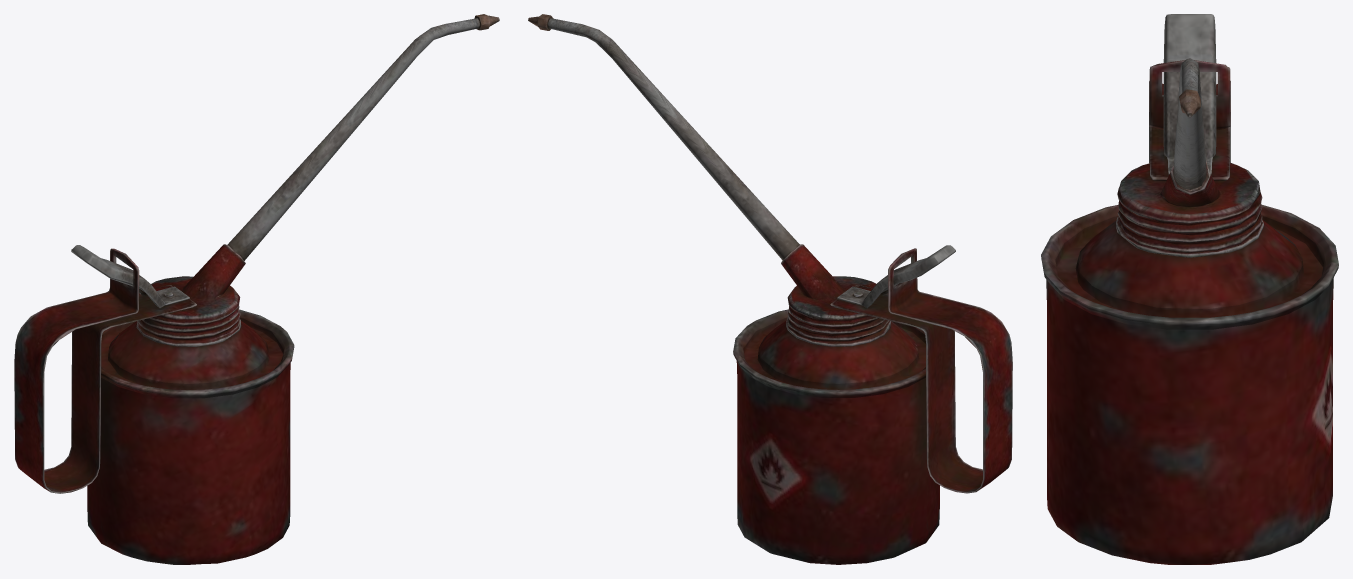
Rendered from small_oil_can_01.glb.
3 renders of one model, left to right at view 1: azimuth 30°, elevation 25°; view 2: azimuth 150°, elevation 25°; view 3: azimuth 270°, elevation 25°, orthographic. The views are drawn at different scales.
Parts seen in each view (by area): view 1: small_oil_can_01; view 2: small_oil_can_01; view 3: small_oil_can_01.
Part boxes in pixels (x1=…): small_oil_can_01: x1=14, y1=14, x2=499, y2=564; small_oil_can_01: x1=528, y1=14, x2=1012, y2=564; small_oil_can_01: x1=1041, y1=14, x2=1338, y2=564.
Size of the model in its own units: 0.266 by 0.2368 by 0.1034.
1 material, 1 textured.
